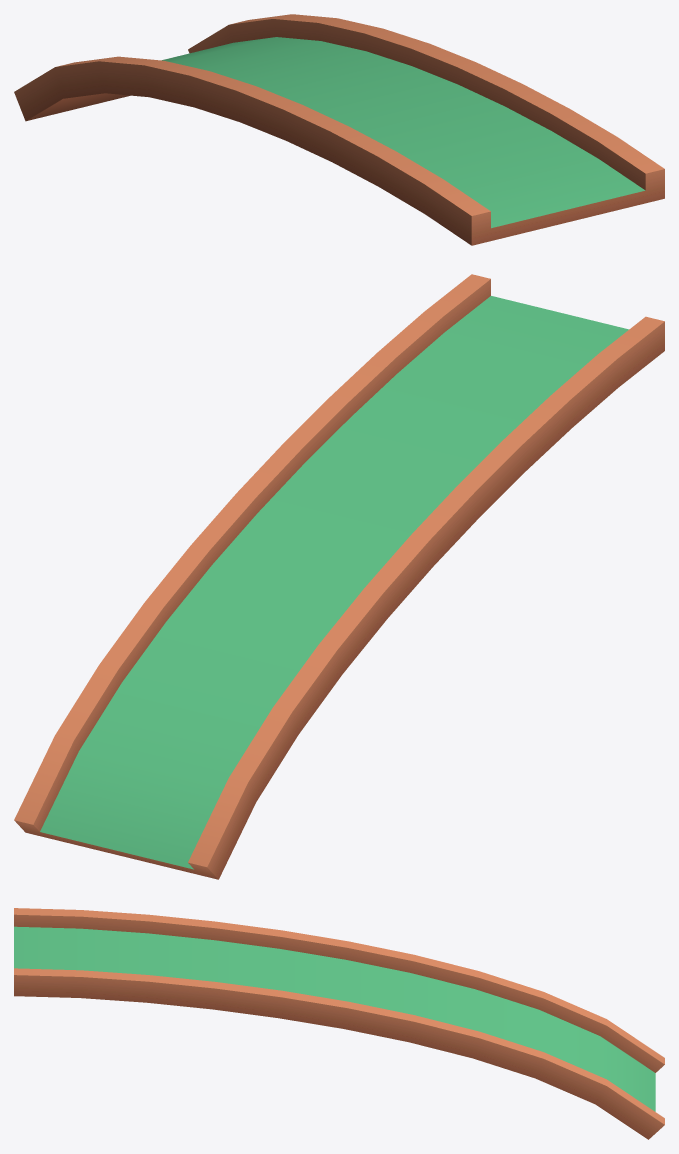
The model's file is spline-default-straight-hill-end.glb.
The picture shows the model from 3 angles, top to bottom: view 1: azimuth 30°, elevation 25°; view 2: azimuth 150°, elevation 25°; view 3: azimuth 270°, elevation 25°; orthographic projection. The views are drawn at different scales.
Visible parts, largest first — view 1: spline-default-straight-hill-end; view 2: spline-default-straight-hill-end; view 3: spline-default-straight-hill-end.
Boxes of the visible parts, bbox=[...] form: spline-default-straight-hill-end: bbox=[14, 14, 664, 245]; spline-default-straight-hill-end: bbox=[14, 274, 664, 879]; spline-default-straight-hill-end: bbox=[14, 908, 664, 1139].
Size of the model in its own units: 0.9999 by 1.15 by 4.1.
Materials: 1 (1 with a texture image).
